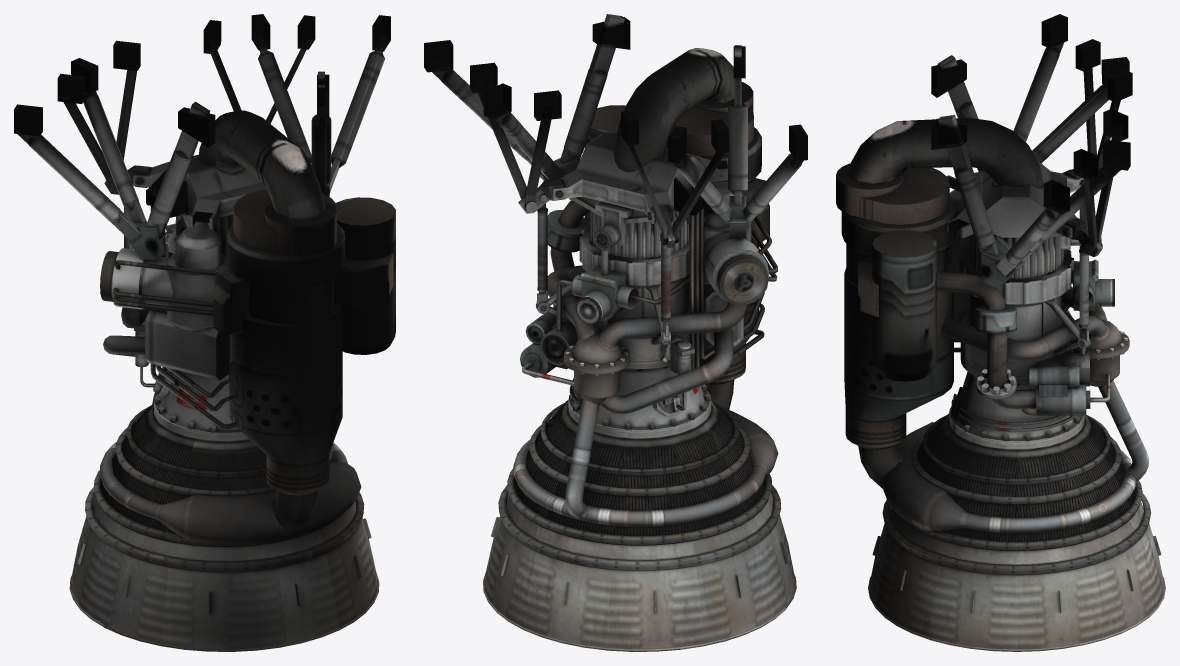
The model's file is Thruster.glb.
3 renders of one model, left to right at view 1: azimuth 30°, elevation 25°; view 2: azimuth 150°, elevation 25°; view 3: azimuth 270°, elevation 25°, orthographic. The views are drawn at different scales.
Parts seen in each view (by area): view 1: Object_65; view 2: Object_65; view 3: Object_65.
Boxes of the visible parts, x1=… form: Object_65: x1=14, y1=14, x2=395, y2=651; Object_65: x1=424, y1=14, x2=807, y2=651; Object_65: x1=836, y1=14, x2=1165, y2=651.
Size of the model in its own units: 4.83 by 6.4 by 3.8.
1 material, 1 textured.
